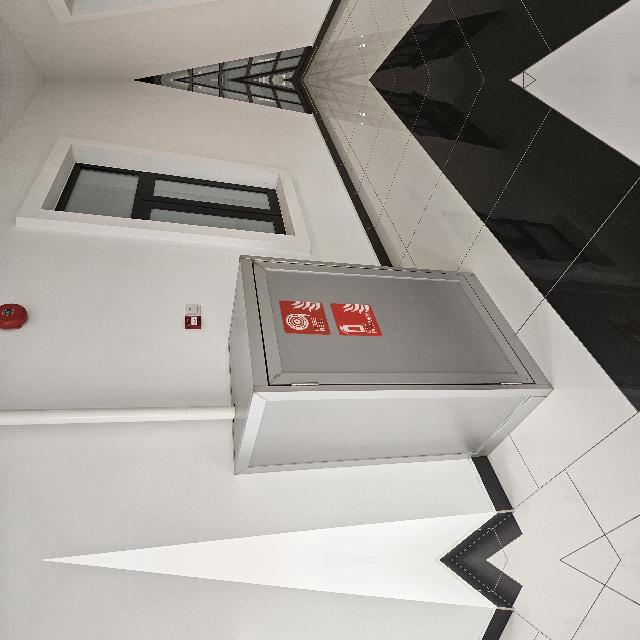obstacle: (85, 306, 305, 634), (85, 486, 305, 640)
